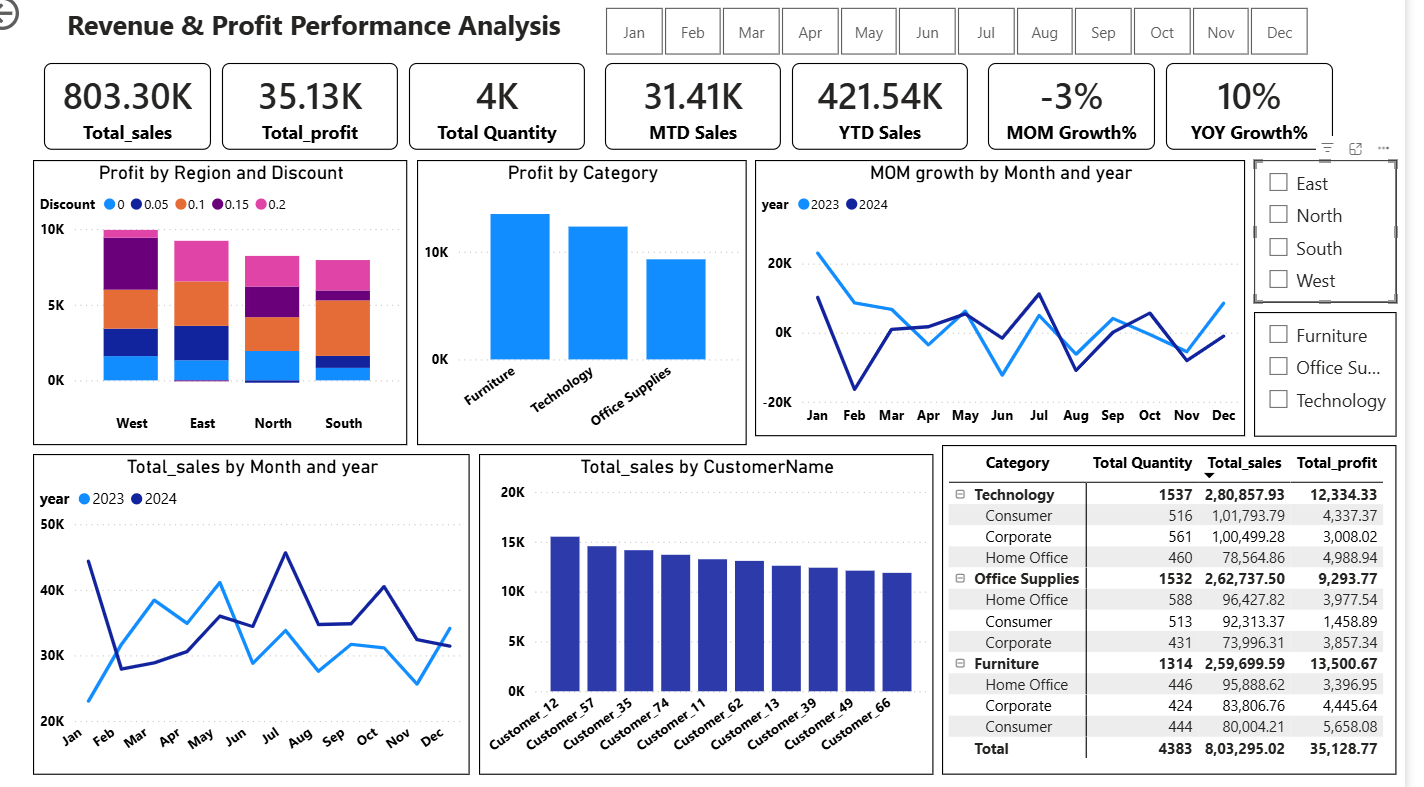

This screenshot's page, from the dashboard's own definition file:
{"tool":"powerbi","page":{"name":"Page 1","canvas":[1280,720],"ordinal":0},"visuals":[{"type":"cardVisual","fields":{"Data":["powerbi_real_world_sales_dataset.MTD"]},"box":[544,48,192,112],"z":0},{"type":"cardVisual","fields":{"Data":["powerbi_real_world_sales_dataset.YTD"]},"box":[712,48,192,112],"z":1000},{"type":"cardVisual","fields":{"Data":["calendar.MOM Growth%"]},"box":[888,48,184,112],"z":2000},{"type":"cardVisual","fields":{"Data":["calendar.YOY Growth%"]},"box":[1048,48,184,112],"z":3000},{"type":"lineChart","title":"MOM growth by Month and year","fields":{"Y":["powerbi_real_world_sales_dataset.MOM growth"],"Category":["calendar.Month_name"],"Series":["calendar.year"]},"box":[696,152,440,248],"z":4000},{"type":"columnChart","title":" Profit by Region and Discount","fields":{"Y":["Sum(powerbi_real_world_sales_dataset.Profit)"],"Series":["powerbi_real_world_sales_dataset.Discount"],"Category":["powerbi_real_world_sales_dataset.Region"]},"box":[48,152,336,256],"z":5000},{"type":"columnChart","fields":{"Category":["powerbi_real_world_sales_dataset.CustomerName"],"Y":["powerbi_real_world_sales_dataset.Total_sales"]},"box":[448,416,408,288],"z":6000},{"type":"columnChart","title":" Profit by Category","fields":{"Category":["powerbi_real_world_sales_dataset.Category"],"Y":["Sum(powerbi_real_world_sales_dataset.Profit)"]},"box":[392,152,296,256],"z":7000},{"type":"cardVisual","fields":{"Data":["powerbi_real_world_sales_dataset.Total_profit"]},"box":[200,48,192,112],"z":8000},{"type":"cardVisual","fields":{"Data":["powerbi_real_world_sales_dataset.Total_sales"]},"box":[40,48,184,112],"z":9000},{"type":"lineChart","title":"Total_sales by Month and year","fields":{"Y":["powerbi_real_world_sales_dataset.Total_sales"],"Category":["calendar.Month_name"],"Series":["calendar.year"]},"box":[48,416,392,288],"z":10000},{"type":"pivotTable","fields":{"Rows":["powerbi_real_world_sales_dataset.Category","powerbi_real_world_sales_dataset.Segment"],"Values":["Sum(powerbi_real_world_sales_dataset.Quantity)","powerbi_real_world_sales_dataset.Total_sales","powerbi_real_world_sales_dataset.Total_profit"]},"box":[864,408,408,296],"z":11000},{"type":"actionButton","box":[0,0,100,40],"z":12000},{"type":"cardVisual","fields":{"Data":["Sum(powerbi_real_world_sales_dataset.Quantity)"]},"box":[368,48,192,112],"z":13000},{"type":"slicer","fields":{"Values":["powerbi_real_world_sales_dataset.Region"]},"box":[1144,152,128,128],"z":14000},{"type":"slicer","fields":{"Values":["powerbi_real_world_sales_dataset.Category"]},"box":[1144,288,128,112],"z":15000},{"type":"slicer","fields":{"Values":["calendar.Month_name"]},"box":[536,8,680,56],"z":15001},{"type":"textbox","box":[56,8,488,56],"z":15002}]}

Visuals, with their boxes in screenshot pixels (x1, y1, x2, y2), scaled from the page's 1280x720 canvas onto the 1424x787 screenshot:
cardVisual - powerbi_real_world_sales_dataset.MTD: rect(605, 52, 819, 175)
cardVisual - powerbi_real_world_sales_dataset.YTD: rect(792, 52, 1006, 175)
cardVisual - calendar.MOM Growth%: rect(988, 52, 1193, 175)
cardVisual - calendar.YOY Growth%: rect(1166, 52, 1371, 175)
"MOM growth by Month and year" lineChart: rect(774, 166, 1264, 437)
" Profit by Region and Discount" columnChart: rect(53, 166, 427, 446)
columnChart - powerbi_real_world_sales_dataset.CustomerName x powerbi_real_world_sales_dataset.Total_sales: rect(498, 455, 952, 770)
" Profit by Category" columnChart: rect(436, 166, 765, 446)
cardVisual - powerbi_real_world_sales_dataset.Total_profit: rect(222, 52, 436, 175)
cardVisual - powerbi_real_world_sales_dataset.Total_sales: rect(44, 52, 249, 175)
"Total_sales by Month and year" lineChart: rect(53, 455, 490, 770)
pivotTable - powerbi_real_world_sales_dataset.Category x powerbi_real_world_sales_dataset.Segment: rect(961, 446, 1415, 770)
actionButton: rect(0, 0, 111, 44)
cardVisual - Sum(powerbi_real_world_sales_dataset.Quantity): rect(409, 52, 623, 175)
slicer - powerbi_real_world_sales_dataset.Region: rect(1273, 166, 1415, 306)
slicer - powerbi_real_world_sales_dataset.Category: rect(1273, 315, 1415, 437)
slicer - calendar.Month_name: rect(596, 9, 1353, 70)
textbox: rect(62, 9, 605, 70)
